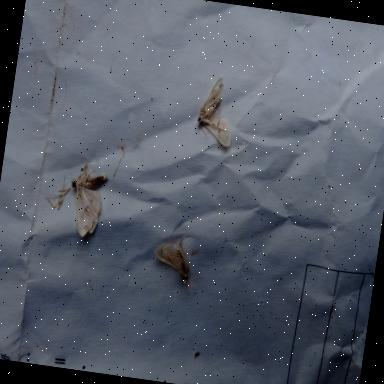abw: (36, 155, 110, 239), (194, 75, 238, 147), (148, 235, 198, 291)
